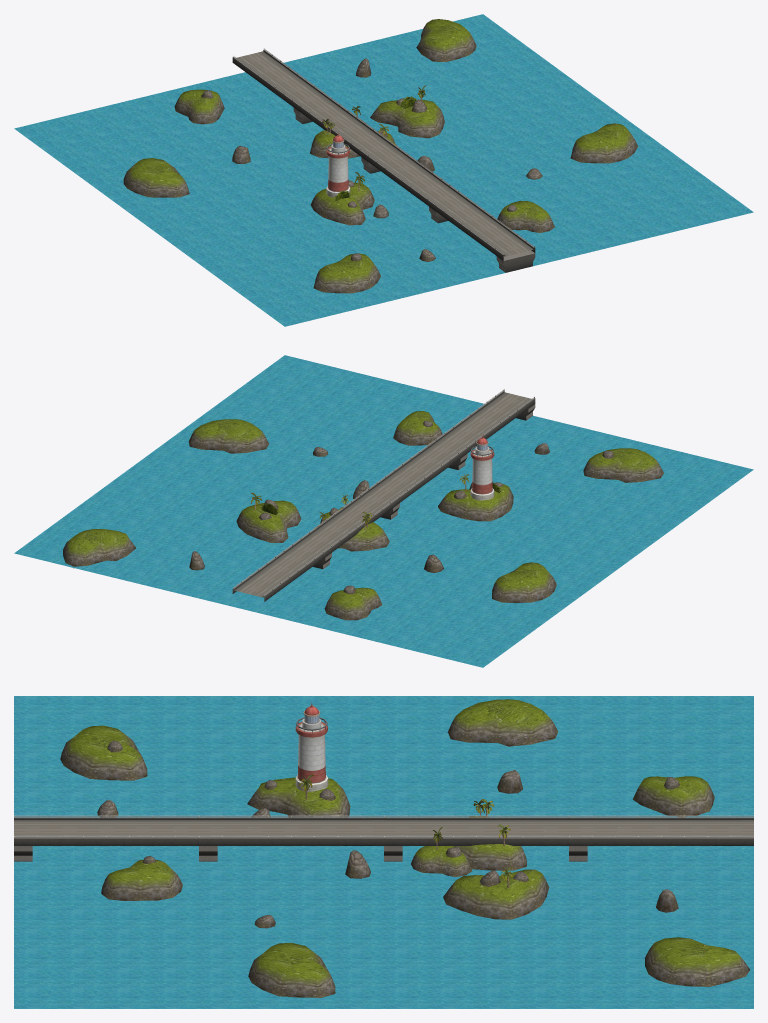
Rendered from Track04_Low.FBX.
The picture shows the model from 3 angles, top to bottom: view 1: azimuth 30°, elevation 25°; view 2: azimuth 150°, elevation 25°; view 3: azimuth 270°, elevation 25°; orthographic projection. The views are drawn at different scales.
Parts seen in each view (by area): view 1: Wave, Rock (×9), Road (×2), LightHouse, Pillar; view 2: Wave, Rock (×9), Road (×2), LightHouse; view 3: Wave, Rock (×11), Road (×2), LightHouse.
Part boxes in pixels (x1,y1,x2,y2): Wave: [14, 14, 753, 326]; Rock (×9): [123, 19, 637, 293]; Road (×2): [232, 48, 535, 260]; LightHouse: [326, 133, 350, 197]; Pillar: [496, 250, 535, 272]; Wave: [14, 355, 753, 667]; Rock (×9): [63, 411, 663, 620]; Road (×2): [232, 389, 535, 601]; LightHouse: [470, 435, 494, 500]; Wave: [14, 696, 753, 1008]; Rock (×11): [60, 699, 750, 997]; Road (×2): [14, 815, 753, 845]; LightHouse: [295, 702, 328, 791].
Size of the model in its own units: 6300 by 983 by 6300.
